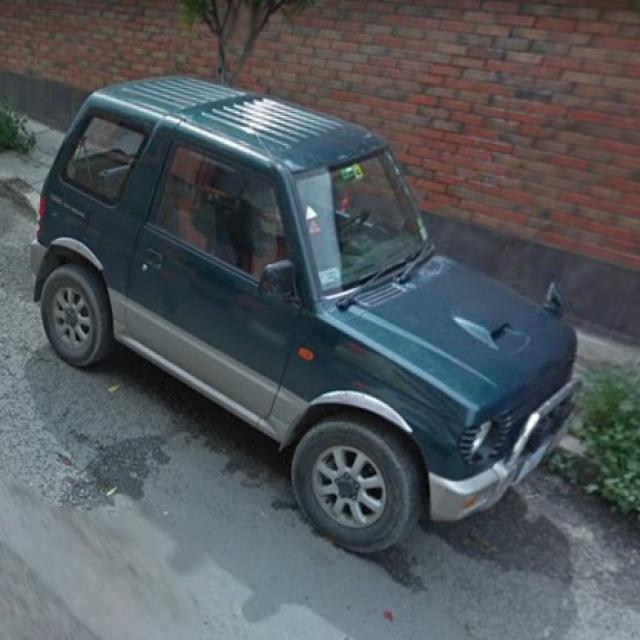cars: (42, 77, 580, 559)
